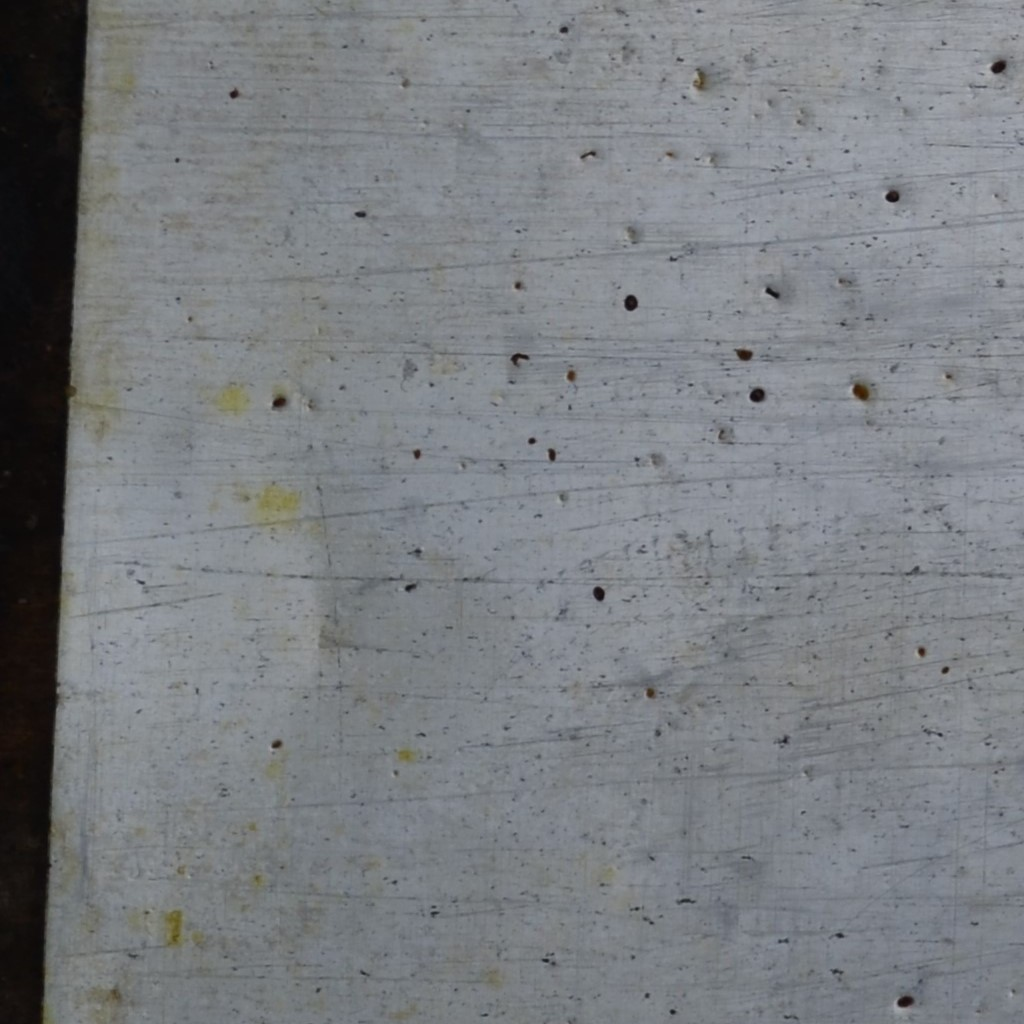varroa: (895, 991, 916, 1012), (989, 55, 1008, 78), (621, 292, 639, 314), (746, 385, 765, 405), (882, 185, 901, 204), (590, 582, 607, 602)
